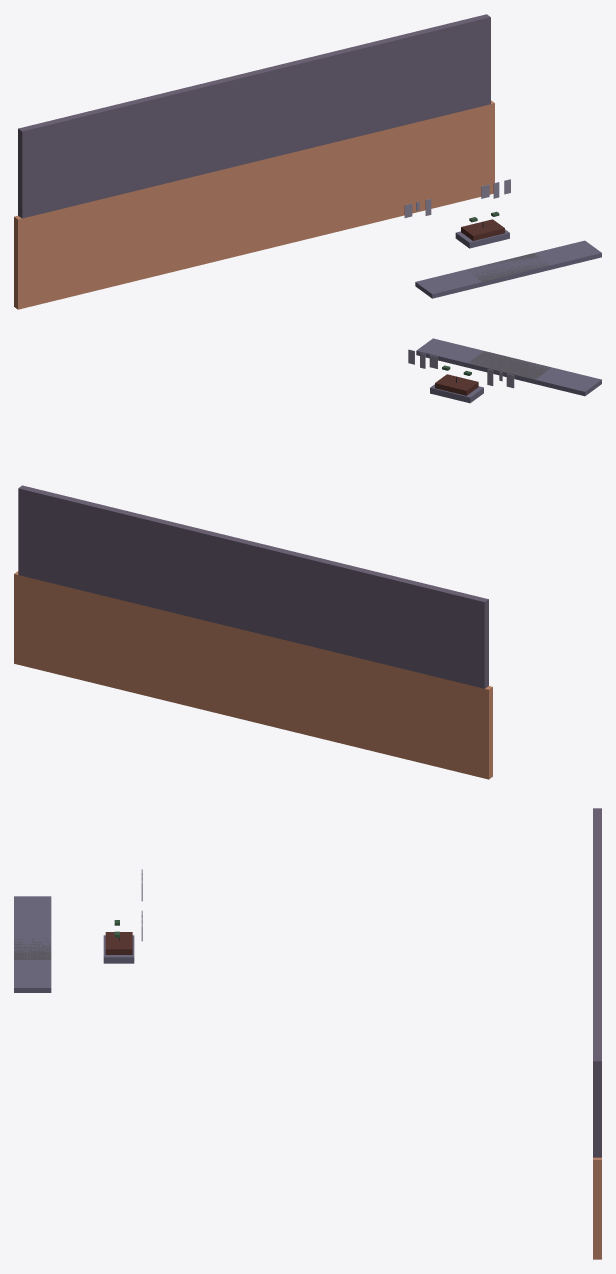
The model's file is dream.glb.
3 views of the same model, one above another, from view 1: azimuth 30°, elevation 25°; view 2: azimuth 150°, elevation 25°; view 3: azimuth 270°, elevation 25° (orthographic). The views are drawn at different scales.
Visible parts, largest first — view 1: horizon, haze, underside, hit_stage, apron, stage-rock; view 2: horizon, haze, underside, floor, hit_stage; view 3: underside, haze, horizon, hit_stage.
Boxes of the visible parts, x1,y1,x2,y2 form: horizon: (14,100,494,309); haze: (18,14,490,218); underside: (415,240,601,298); hit_stage: (461,219,504,240); apron: (474,261,549,281); stage-rock: (455,229,509,248); horizon: (14,571,492,779); haze: (18,485,488,688); underside: (416,338,601,396); floor: (468,357,543,379); hit_stage: (435,374,478,395); underside: (14,896,51,992); haze: (593,808,601,1157); horizon: (593,1157,601,1259); hit_stage: (105,932,132,954).
Size of the model in its own units: 67.47 by 28.28 by 65.15.
